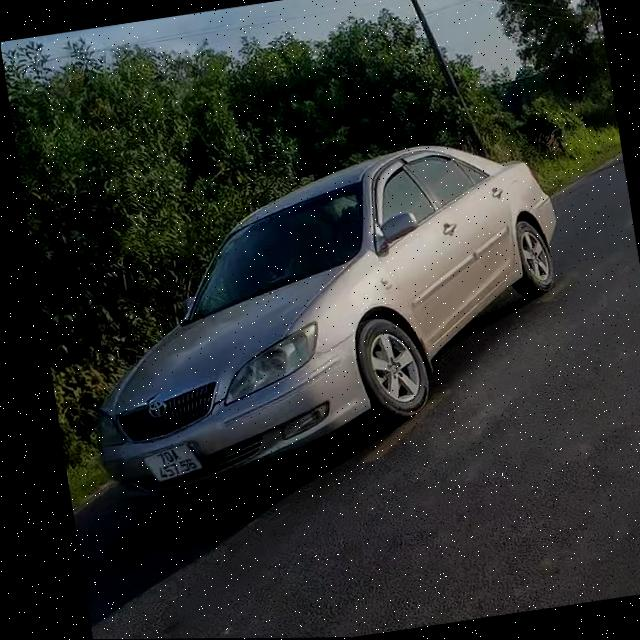car: (61, 122, 601, 509)
plate: (137, 433, 206, 491)
